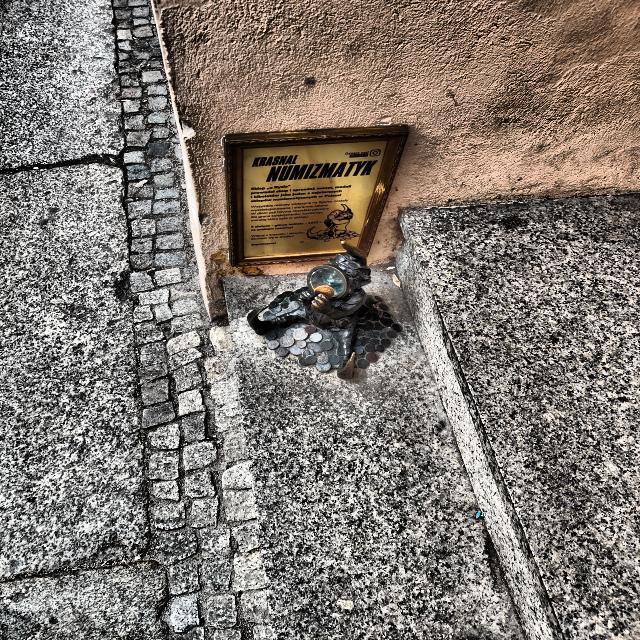Numizmatyk: (247, 241, 402, 379)
